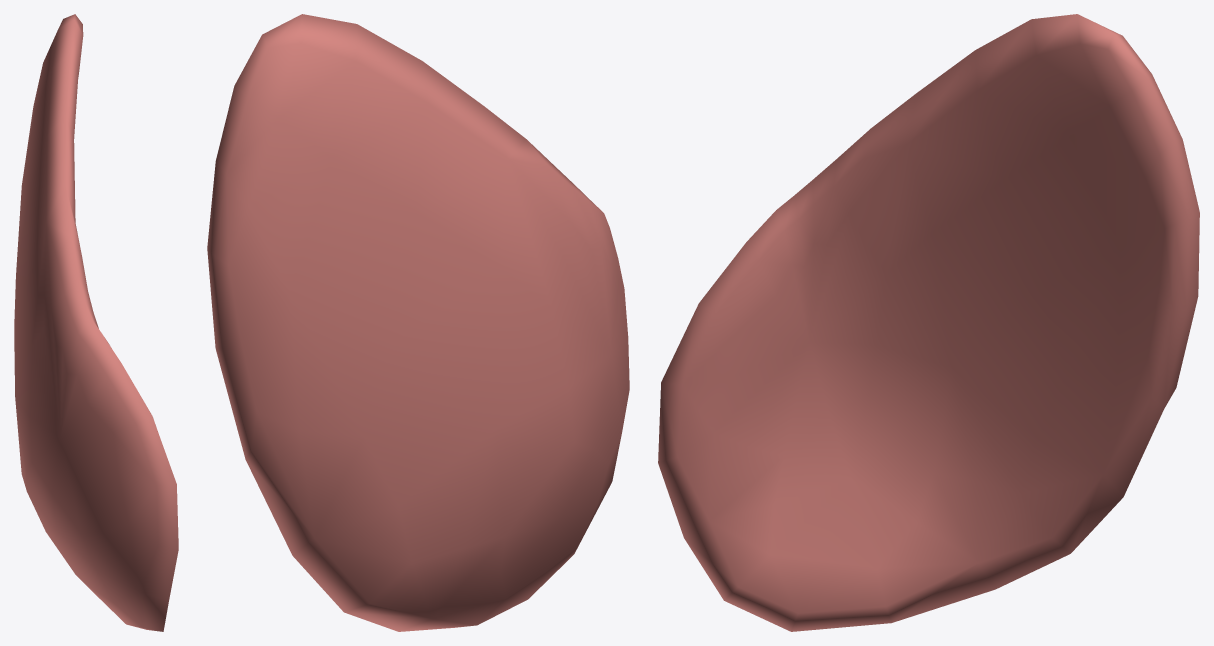
3 views of the same model, side by side, from view 1: azimuth 30°, elevation 25°; view 2: azimuth 150°, elevation 25°; view 3: azimuth 270°, elevation 25° (orthographic). The views are drawn at different scales.
Visible parts, largest first — view 1: ZA_db658275edb99fd1; view 2: ZA_db658275edb99fd1; view 3: ZA_db658275edb99fd1.
Boxes of the visible parts, box(x1,y1,x2,y2) form: ZA_db658275edb99fd1: box(14, 14, 178, 631); ZA_db658275edb99fd1: box(207, 14, 629, 631); ZA_db658275edb99fd1: box(658, 14, 1199, 631).
Size of the model in its own units: 0.00219 by 0.00694 by 0.0053.
